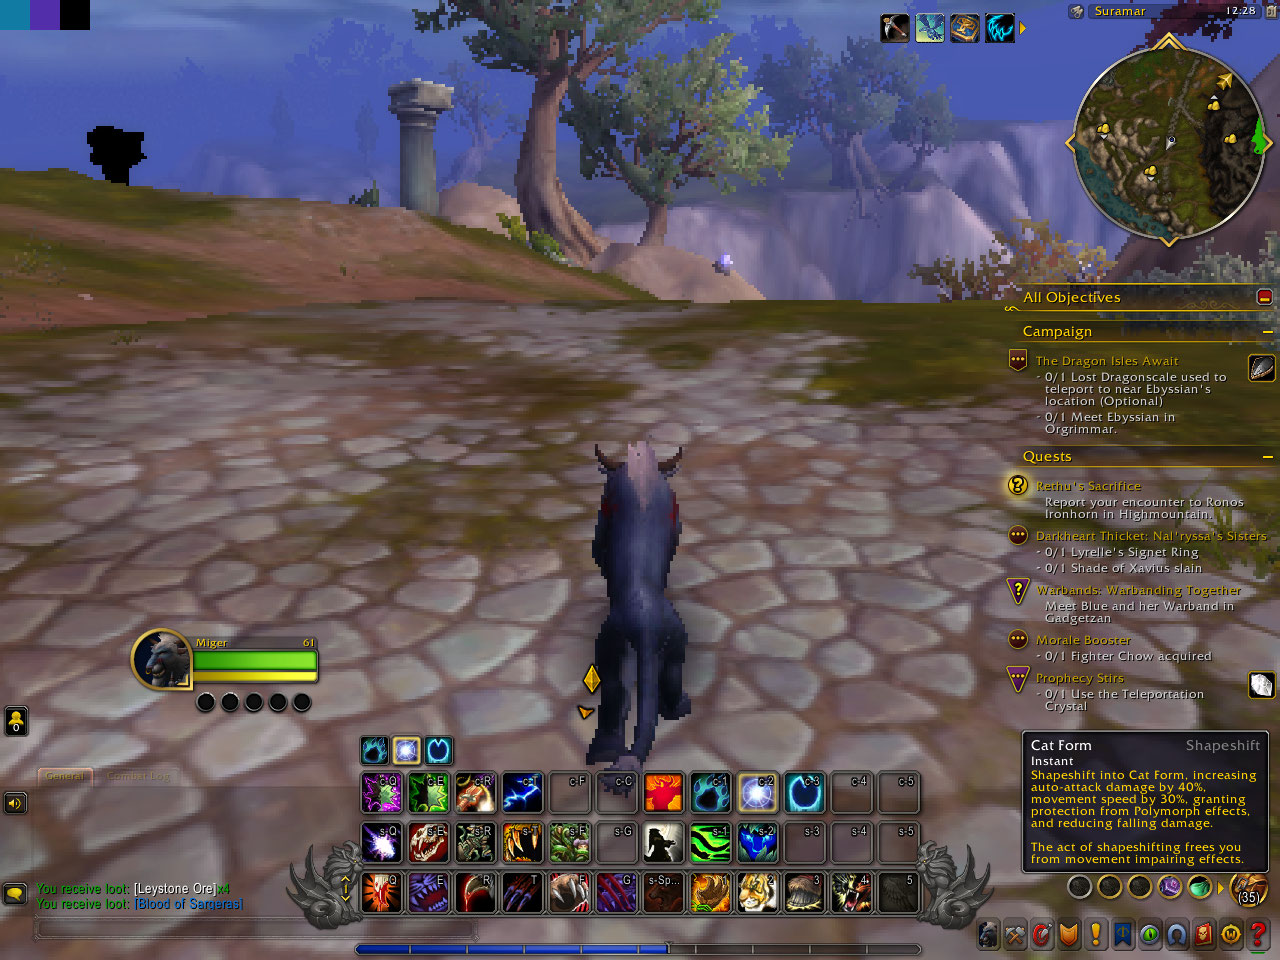ore: (708, 248, 738, 278)
